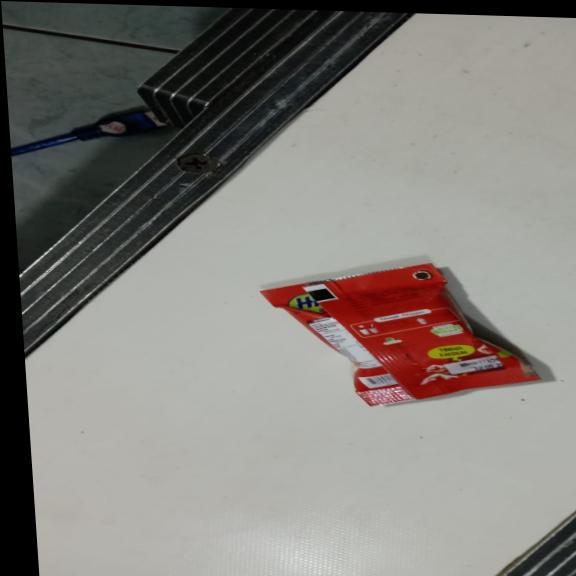Plastik: (253, 255, 542, 410)
